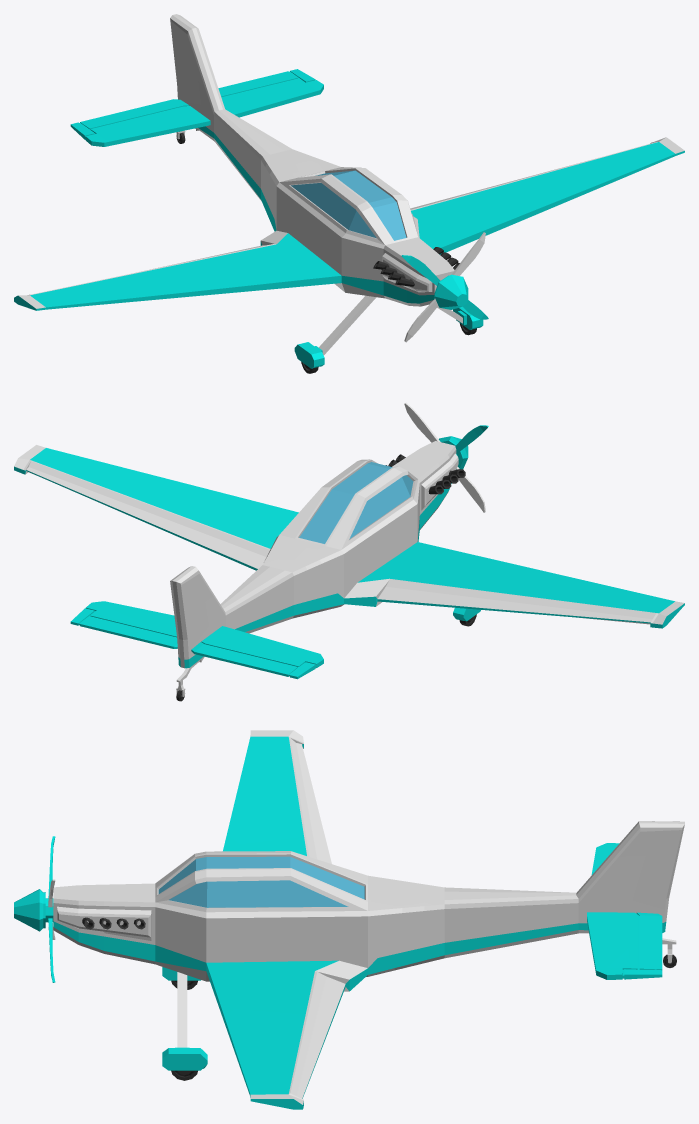
3 renders of one model, top to bottom at view 1: azimuth 30°, elevation 25°; view 2: azimuth 150°, elevation 25°; view 3: azimuth 270°, elevation 25°, orthographic. The views are drawn at different scales.
Parts seen in each view (by area): view 1: Plane.004, propeller.004; view 2: Plane.004, propeller.004; view 3: Plane.004, propeller.004.
Part boxes in pixels (x1,y1,x2,y2): Plane.004: (14, 14, 684, 373); propeller.004: (401, 232, 488, 342); Plane.004: (14, 436, 684, 701); propeller.004: (404, 402, 488, 512); Plane.004: (14, 730, 684, 1109); propeller.004: (48, 836, 55, 982).
Bounding box in the file's own units: 345 × 92.59 × 265.
